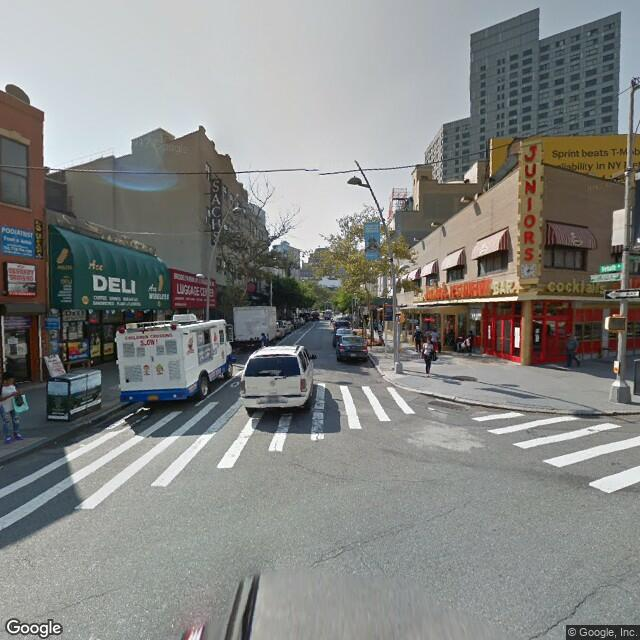litter: (132, 405, 154, 414)
